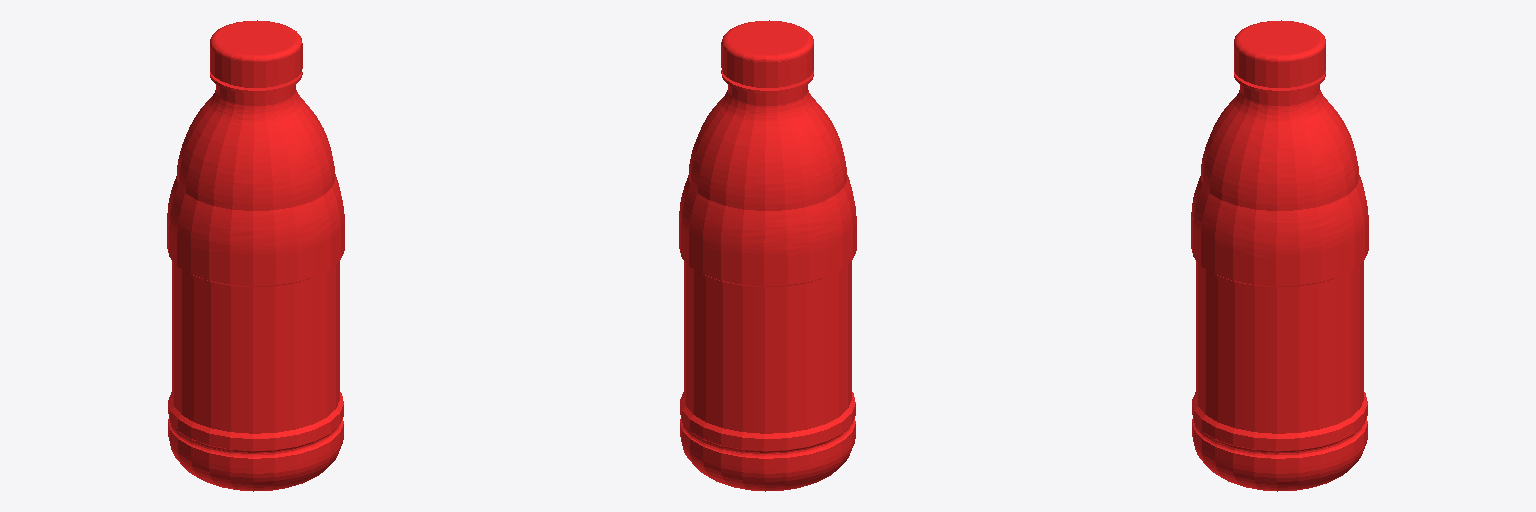
The robot description file, URDF, robot "bottle":
<?xml version="0.0" ?>
<robot name="bottle">
    <link concave="yes" name="base_link">
        <!-- <contact>
            <lateral_friction value="3.0"/>
            <rolling_friction value="3.0"/>
            <spinning_friction value="3.0"/>
        </contact> -->
        <inertial>
            <origin xyz="0 0 0.03"/>
            <mass value="1"/>
            <inertia ixx="1" ixy="0" ixz="0" iyy="1" iyz="0" izz="1"/>
        </inertial>
        <visual>
            <origin xyz="0.0 -0.0  0"/>
            <geometry>
                <mesh filename="bottle.obj" scale="0.06 0.06 0.06 "/>
            </geometry>
	      <material name="bottle">
        	<color rgba="1 0.2 0.2 1"/>
		<specular rgb="1 1 1"/>
	      </material>
        </visual>
        <collision concave="yes">
            <origin xyz="0.0 -0.0 0"/>
            <geometry>
                <mesh filename="bottle.obj" scale="0.06 0.06 0.06 "/>
            </geometry>
        </collision>
    </link>
</robot>

--- What the picture shows (computed from the rendered views, not written in the file) ---
The picture shows the robot from 3 angles, left to right: view 1: azimuth 30°, elevation 25°; view 2: azimuth 150°, elevation 25°; view 3: azimuth 270°, elevation 25°; orthographic projection.
Robot: bottle — 1 links, 0 joints (none); root link base_link; default pose: all joints at 0.
Visible links, largest first — view 1: base_link; view 2: base_link; view 3: base_link.
Link boxes in pixels (bbox=[...]): base_link: bbox=[167, 20, 344, 491]; base_link: bbox=[679, 20, 856, 491]; base_link: bbox=[1191, 20, 1368, 491].
Size in the robot's own frame: 0.0638 by 0.0638 by 0.1711 metres.
Meshes: 1 distinct files referenced, 1 mesh visuals loaded (1 OBJ).